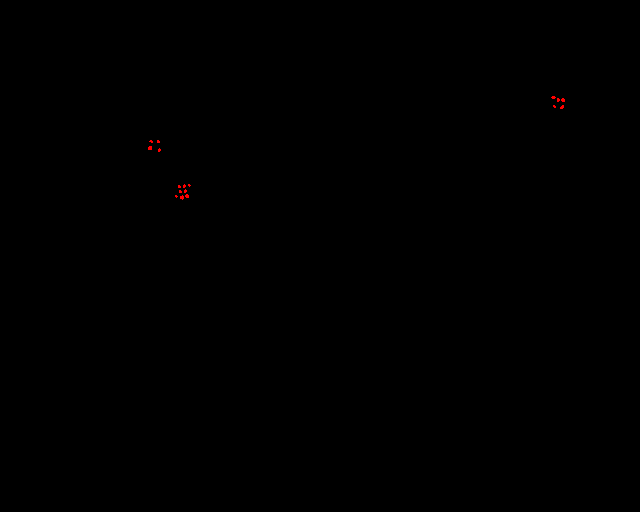Target: (180, 195, 184, 200), (561, 98, 565, 102), (560, 105, 564, 109), (148, 146, 152, 150), (185, 194, 189, 198), (551, 96, 556, 99), (557, 98, 560, 102), (149, 140, 153, 143), (158, 148, 161, 152), (183, 184, 186, 188), (184, 189, 187, 193), (553, 105, 556, 108), (157, 140, 160, 143), (188, 184, 191, 187), (178, 185, 181, 188), (179, 190, 182, 193), (175, 195, 178, 198)
